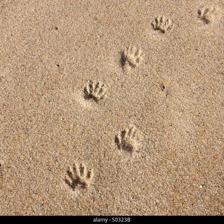raccoon: (60, 164, 98, 198), (78, 76, 110, 111), (112, 125, 139, 155), (117, 44, 147, 71)
